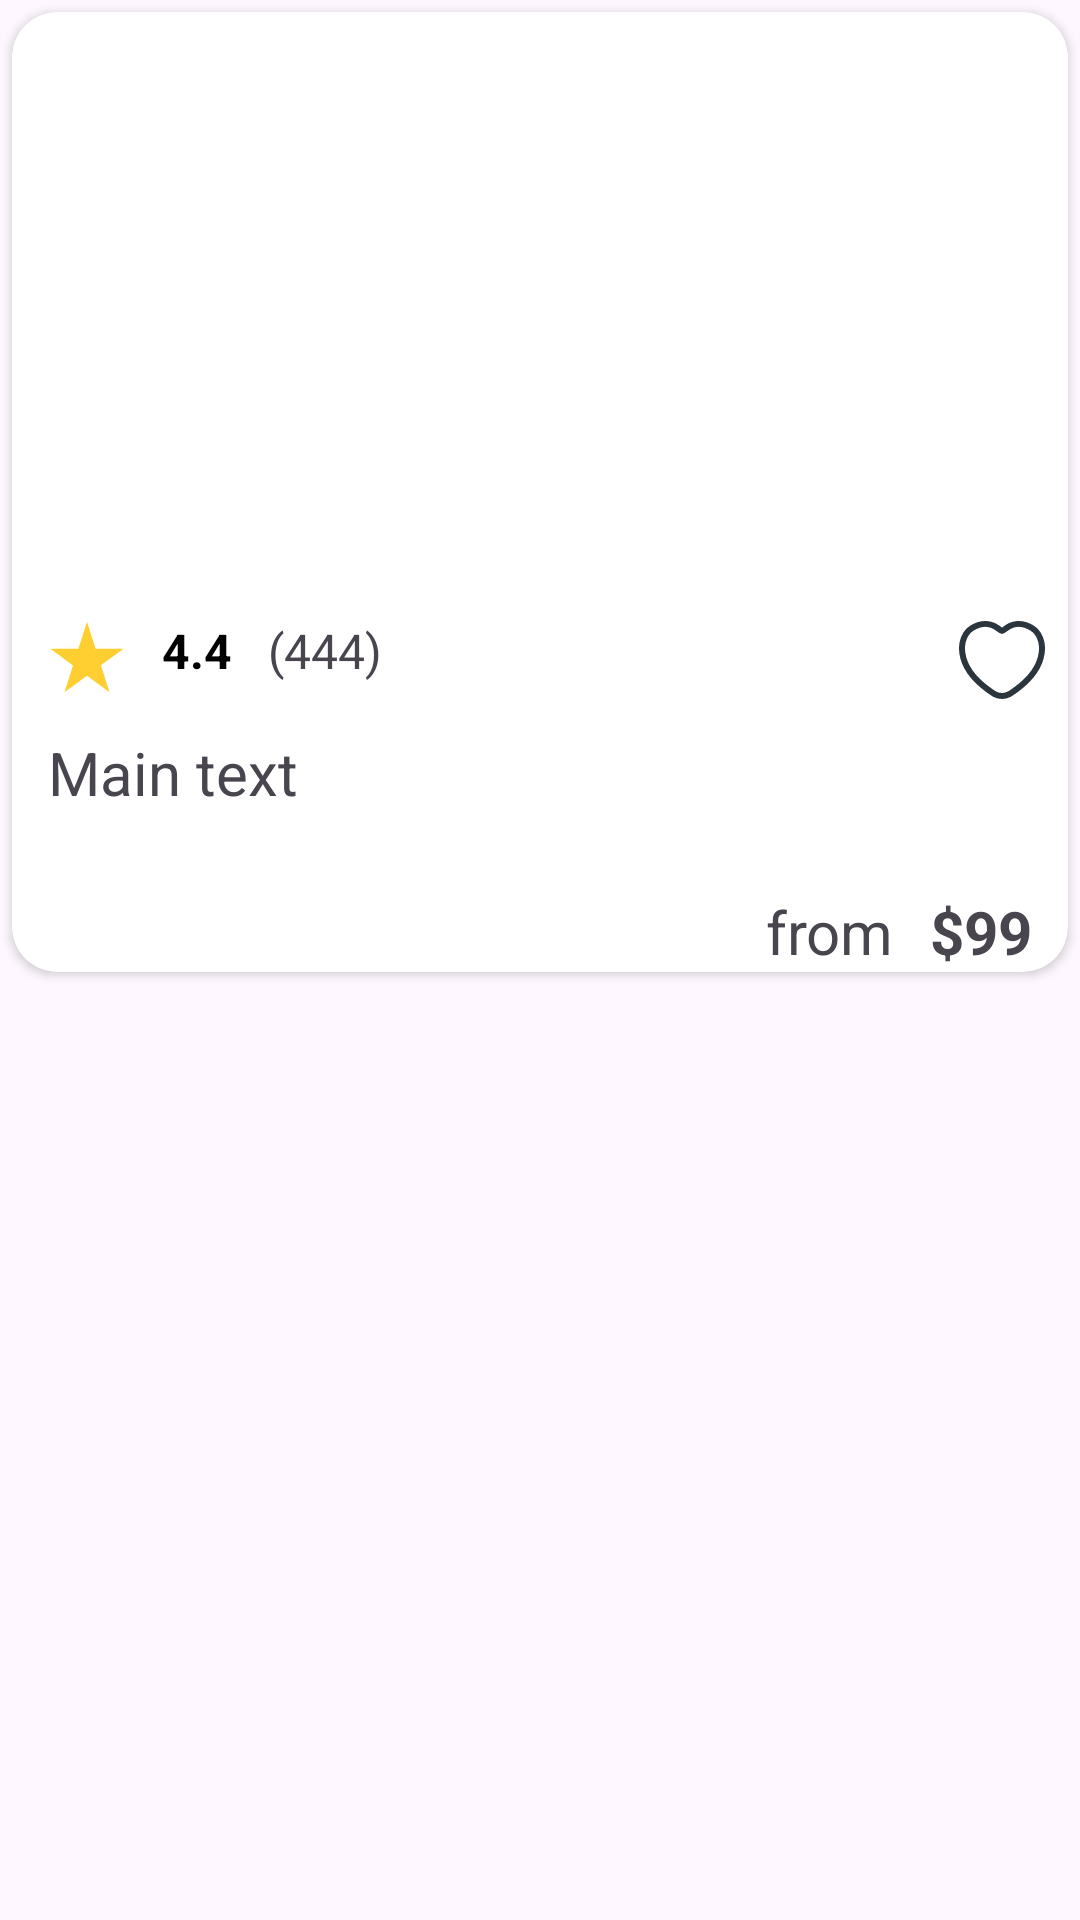

Named icons in this screenshot (1080x1920) and their bounding boxes, (x1, y1, x2, y2):
favourite: (959, 621, 1045, 699)
star: (51, 622, 123, 692)
